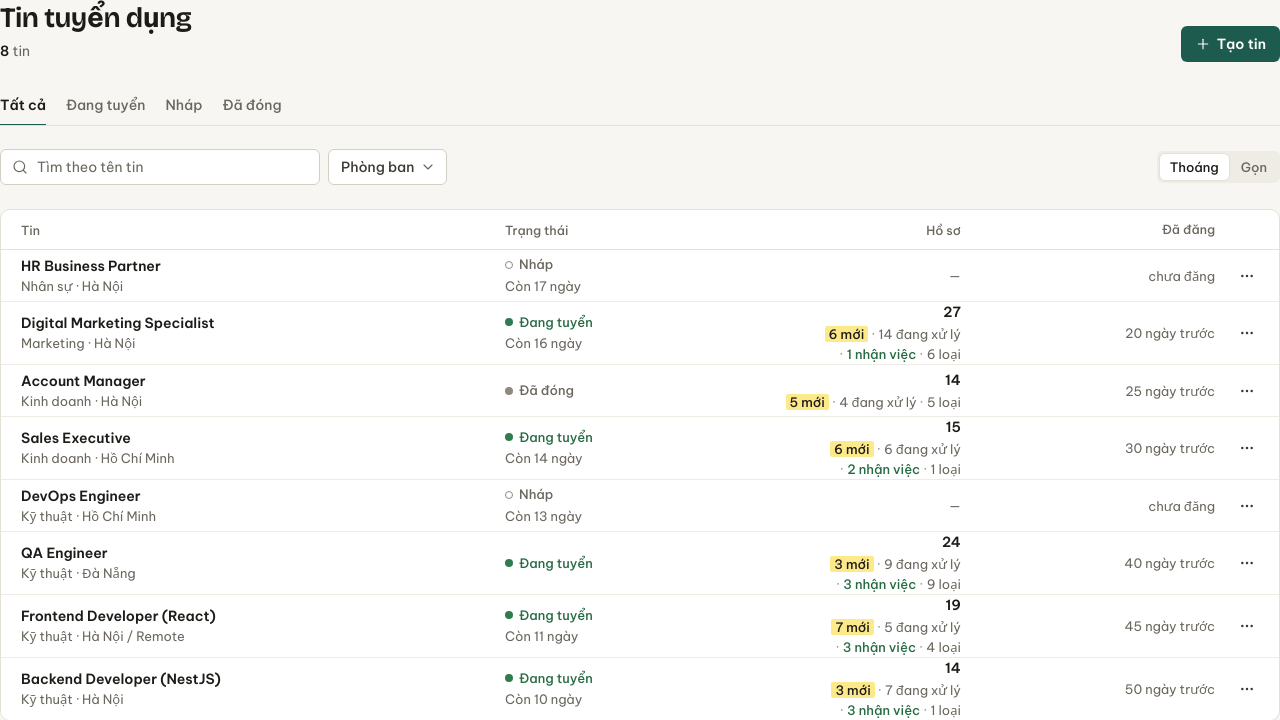
it: detail dialog › opens a job with one click on its row and keeps the job list
Step 1. Click the row "Backend Developer (NestJS)" → (245, 689), box [1,658,1279,719]
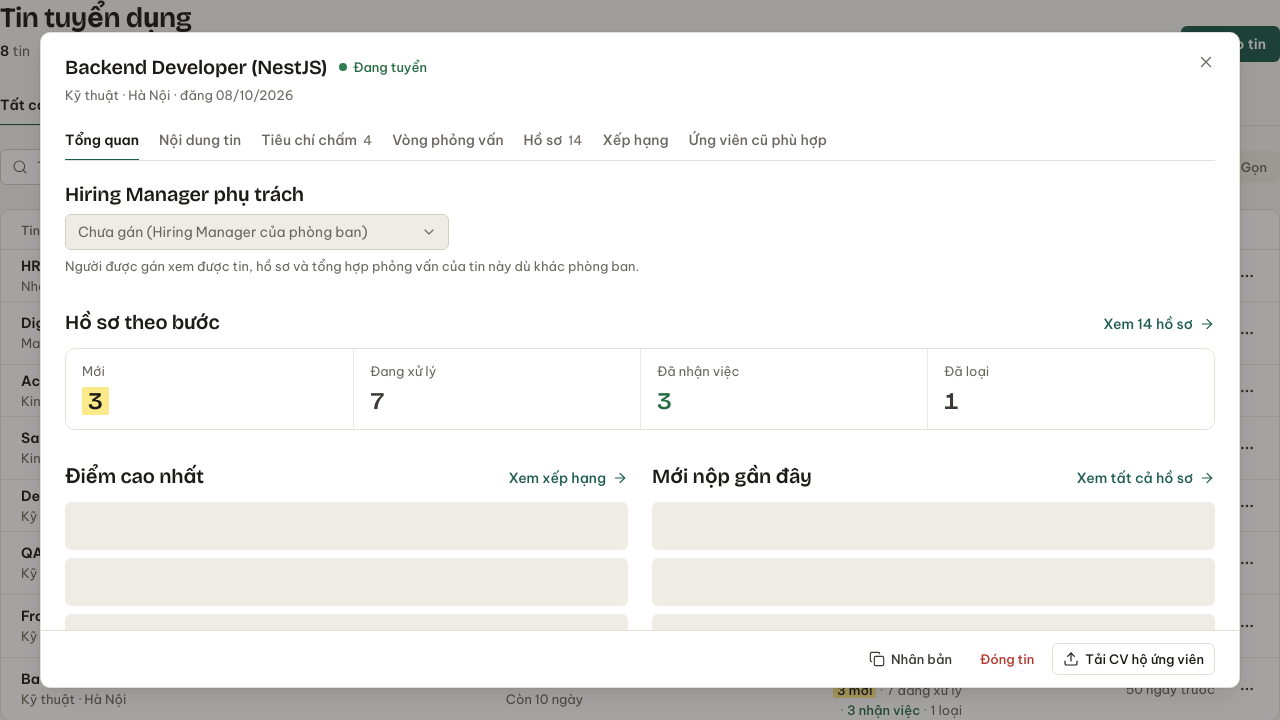
Step 2. Click the tab "Nội dung tin" → (200, 141), box [159,121,241,161]
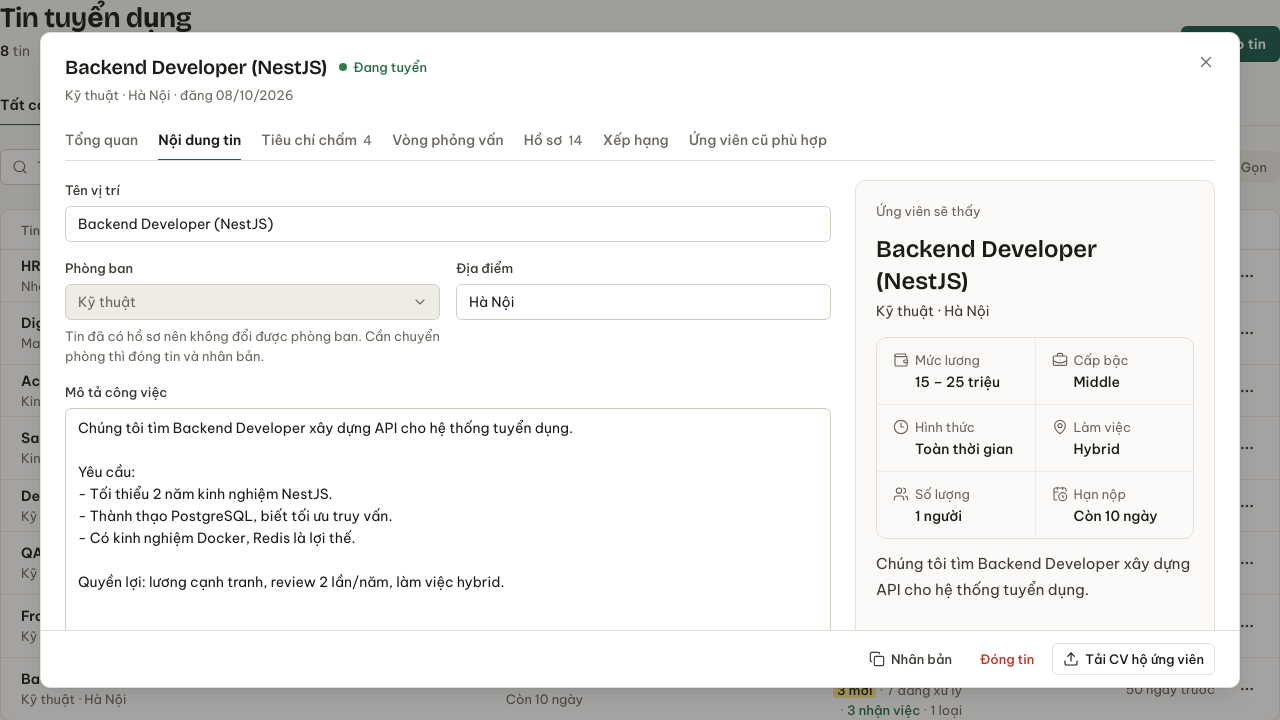
Check: the tab "Tiêu chí chấm 4" is shown, box [261,121,372,161]
Check: the tab "Hồ sơ 14" is shown, box [524,121,583,161]
Check: the field labelled "Tên vị trí" holds "Backend Developer (NestJS)", box [65,206,831,242]
